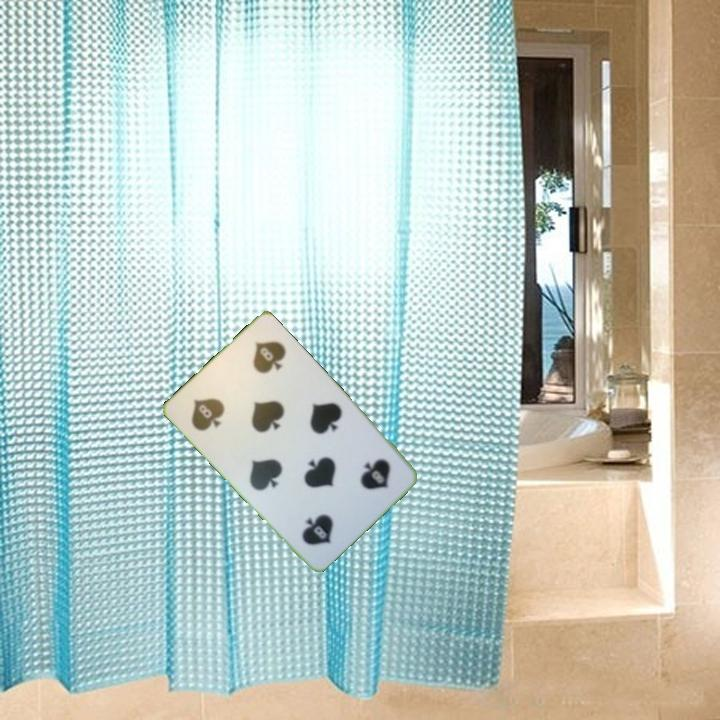s_8.png: (323, 434, 409, 520), (173, 364, 259, 450)
